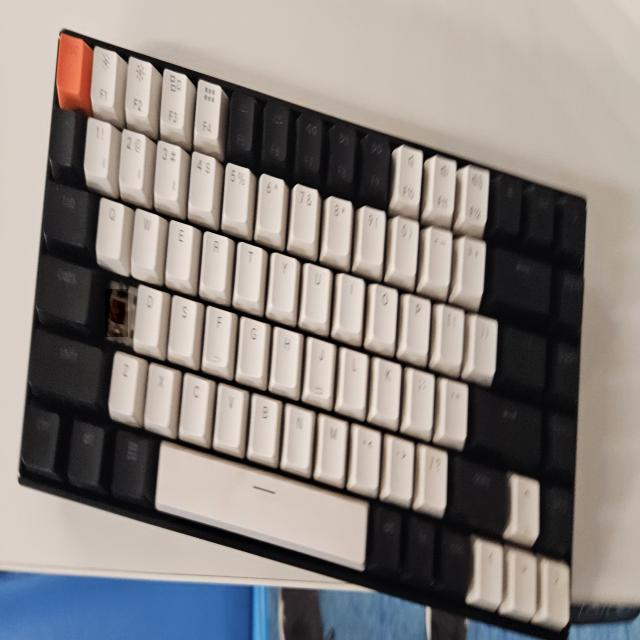C: (105, 289, 128, 337)
